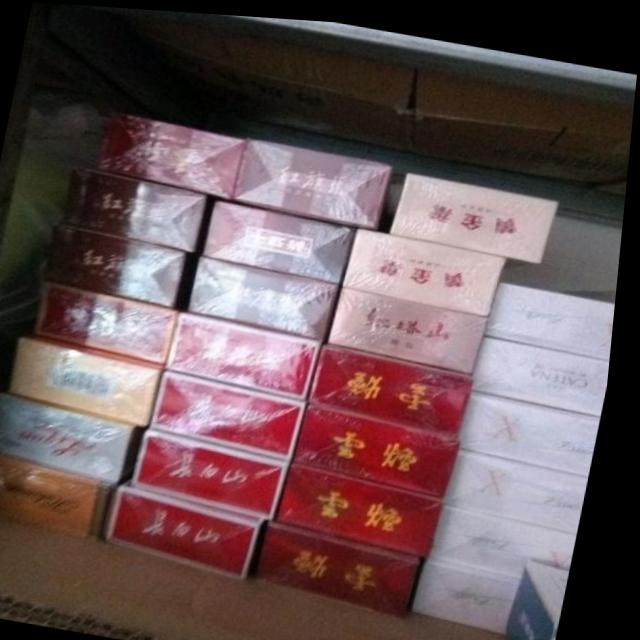box: (262, 516, 432, 612), (284, 458, 453, 552), (300, 398, 470, 491), (112, 482, 274, 576), (394, 166, 562, 256), (315, 338, 480, 428), (234, 133, 397, 224), (138, 426, 297, 516), (346, 222, 510, 309), (156, 367, 313, 457), (0, 391, 152, 482), (15, 336, 170, 425), (333, 282, 494, 367), (172, 309, 329, 396), (207, 196, 361, 279), (97, 111, 247, 196), (63, 165, 211, 250), (192, 253, 345, 335), (39, 277, 184, 362), (46, 221, 191, 305), (466, 383, 607, 467), (455, 442, 597, 525), (0, 450, 125, 538), (439, 498, 586, 572), (479, 329, 616, 408), (490, 275, 620, 351), (423, 552, 532, 625), (517, 553, 579, 640)
